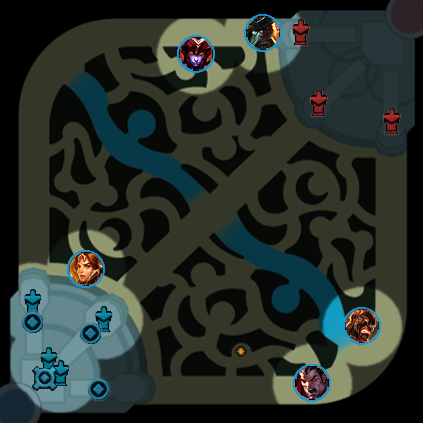Brand: (343, 307, 381, 345)
Darius: (293, 364, 331, 402)
Gangplank: (244, 14, 282, 52)
Leona: (67, 250, 105, 288)
Shyvana: (177, 35, 215, 73)
